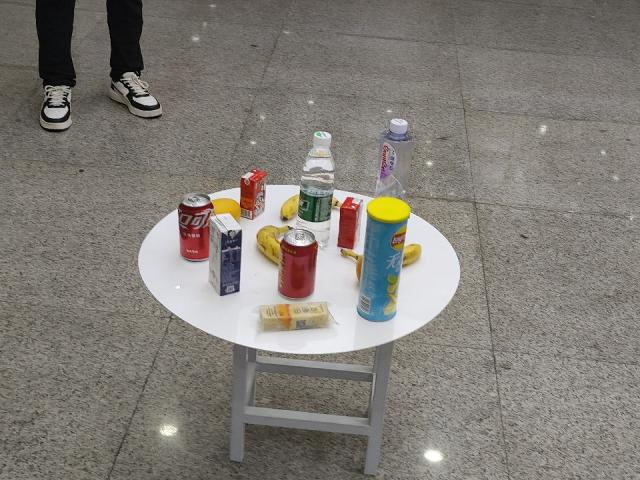Canned_drinks: (283, 230, 318, 298), (180, 192, 210, 260)
bottle: (302, 130, 332, 234), (385, 118, 419, 200)
cylinder: (363, 199, 407, 322)
drink_box: (210, 214, 240, 294), (241, 172, 267, 216), (338, 198, 360, 248)
